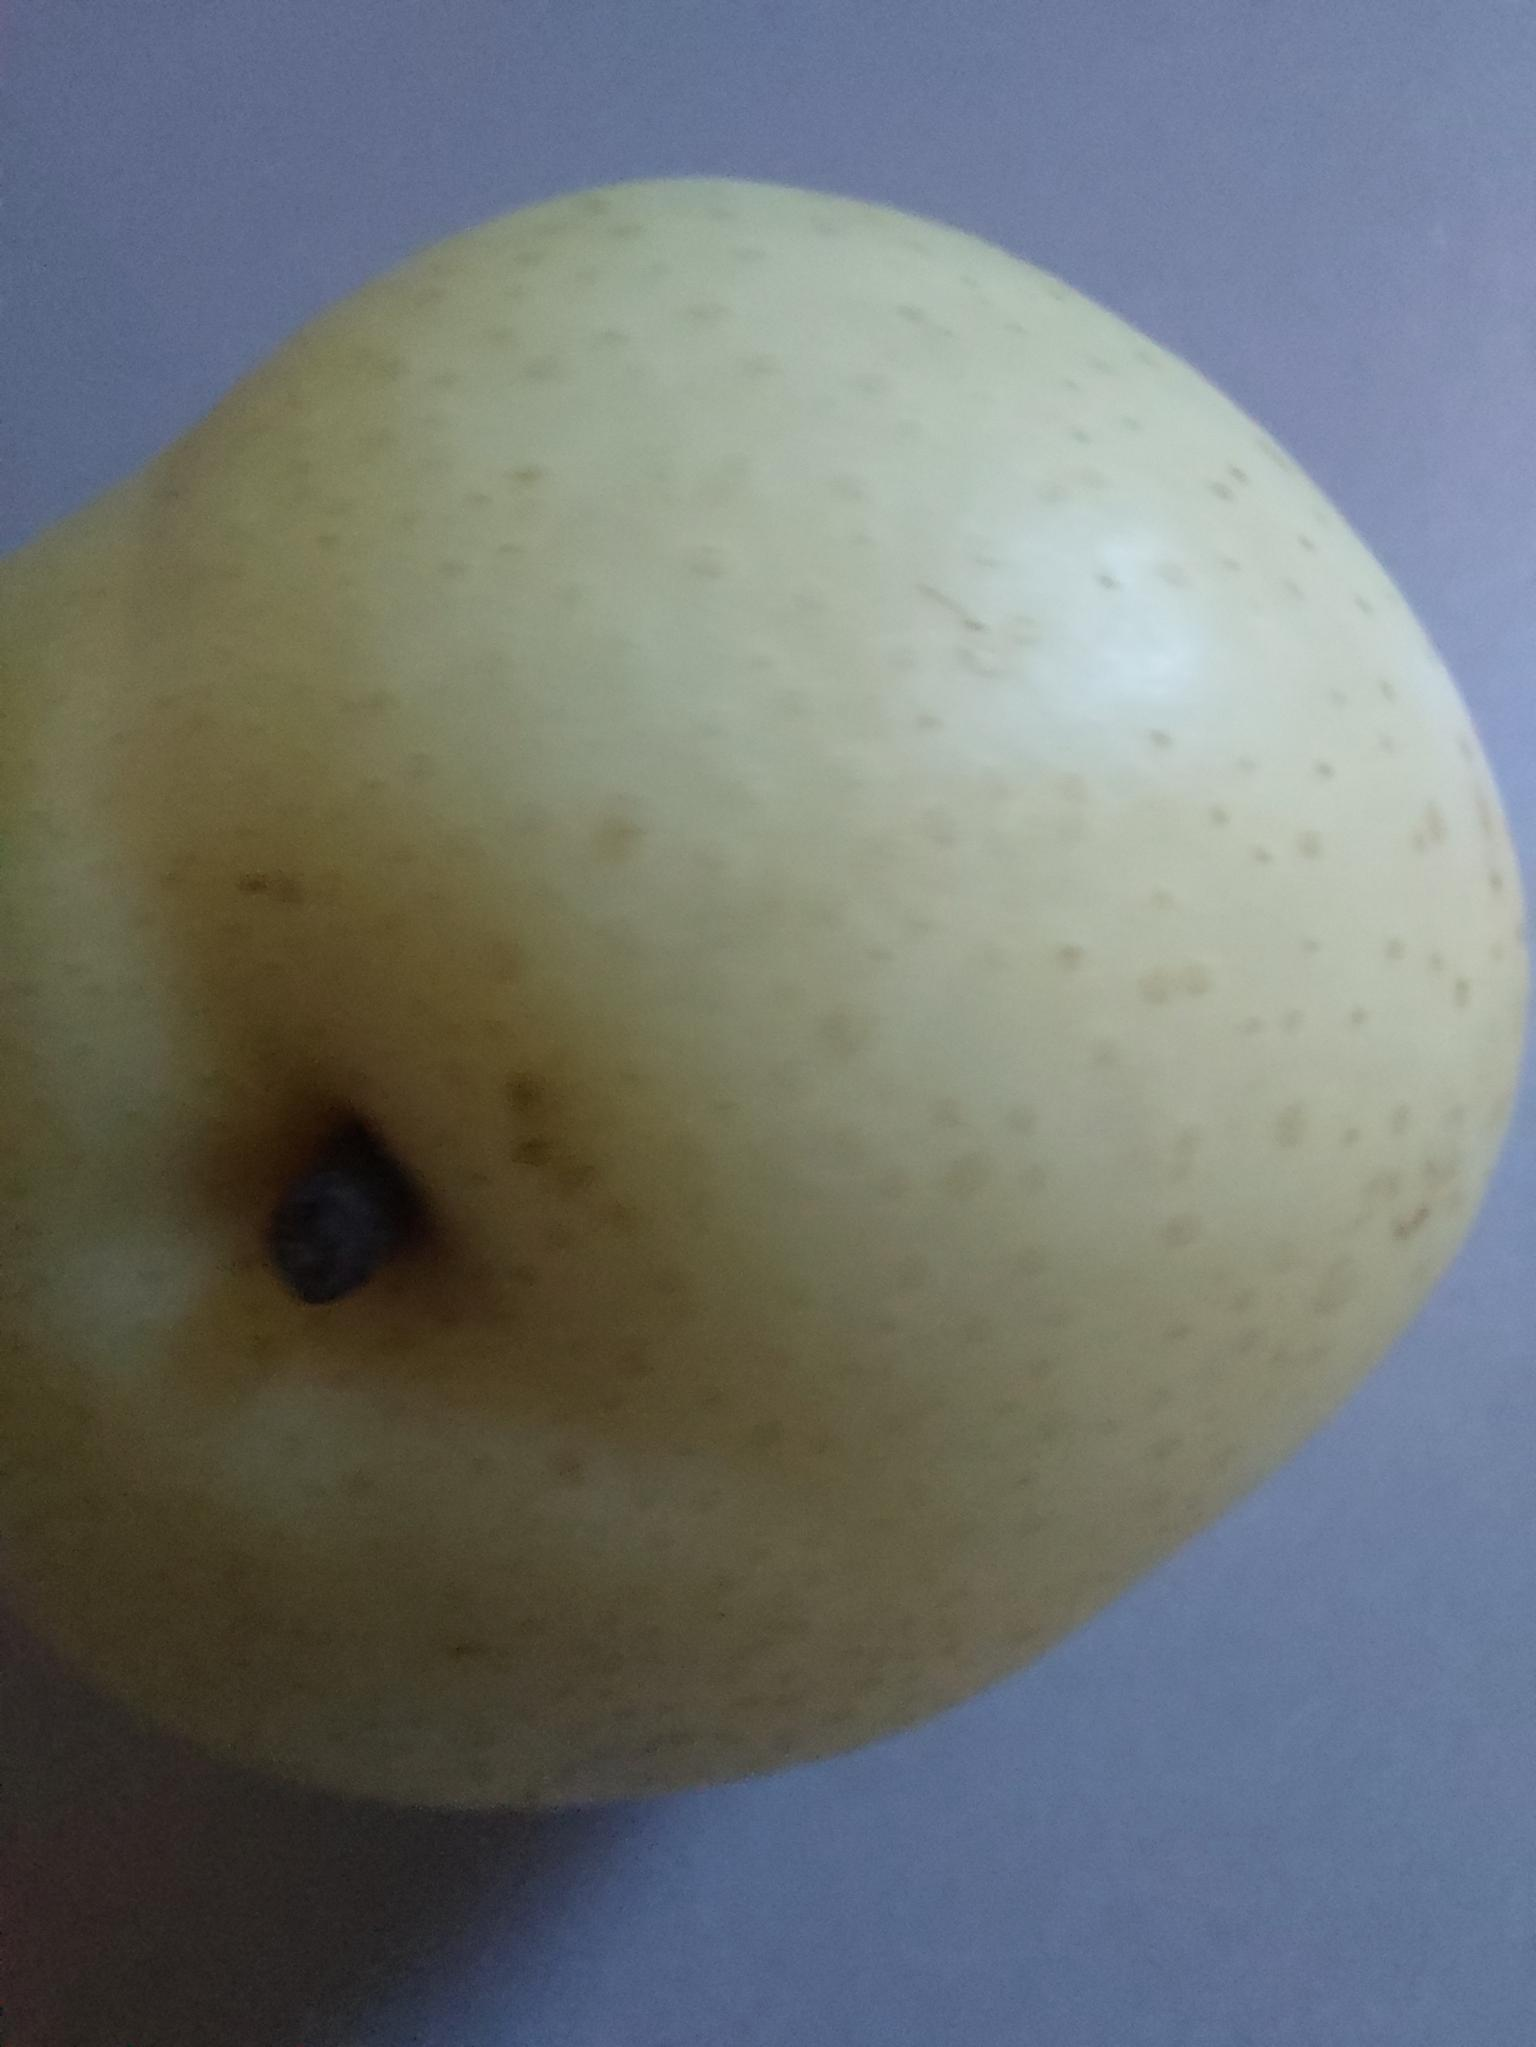Good Pear: (8, 156, 1536, 1855)
